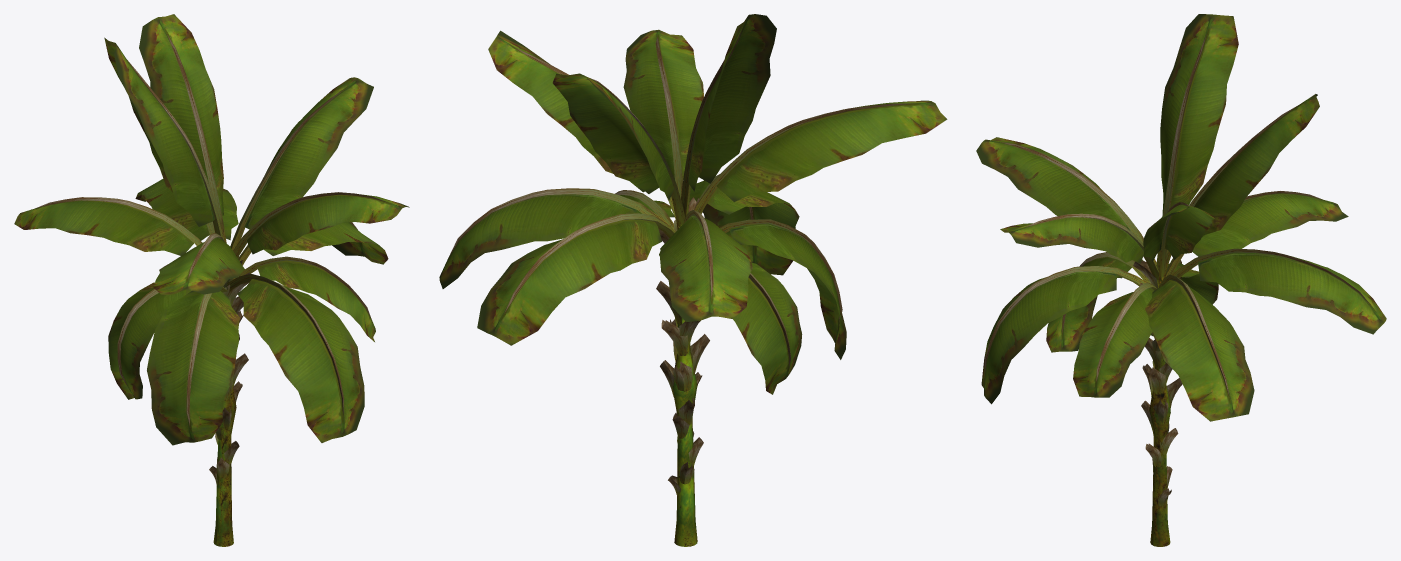
Rendered from banana_plant.glb.
3 views of the same model, side by side, from view 1: azimuth 30°, elevation 25°; view 2: azimuth 150°, elevation 25°; view 3: azimuth 270°, elevation 25° (orthographic). The views are drawn at different scales.
Visible parts, largest first — view 1: Tree_1_Tree_1Mat_0, Tree_2_Tree_2Mat_0, Tree_0_Tree_0Mat_0; view 2: Tree_1_Tree_1Mat_0, Tree_2_Tree_2Mat_0, Tree_0_Tree_0Mat_0; view 3: Tree_1_Tree_1Mat_0, Tree_2_Tree_2Mat_0, Tree_0_Tree_0Mat_0.
Boxes of the visible parts, box(x1,y1,x2,y2) form: Tree_1_Tree_1Mat_0: box(14, 14, 409, 445); Tree_2_Tree_2Mat_0: box(37, 34, 385, 485); Tree_0_Tree_0Mat_0: box(213, 387, 236, 546); Tree_1_Tree_1Mat_0: box(439, 14, 947, 394); Tree_2_Tree_2Mat_0: box(449, 30, 913, 495); Tree_0_Tree_0Mat_0: box(672, 225, 697, 546); Tree_1_Tree_1Mat_0: box(976, 14, 1386, 421); Tree_2_Tree_2Mat_0: box(984, 34, 1370, 506); Tree_0_Tree_0Mat_0: box(1149, 277, 1170, 546).
Bounding box in the file's own units: 1.49 × 2.16 × 1.64.
3 materials, 3 textured.
